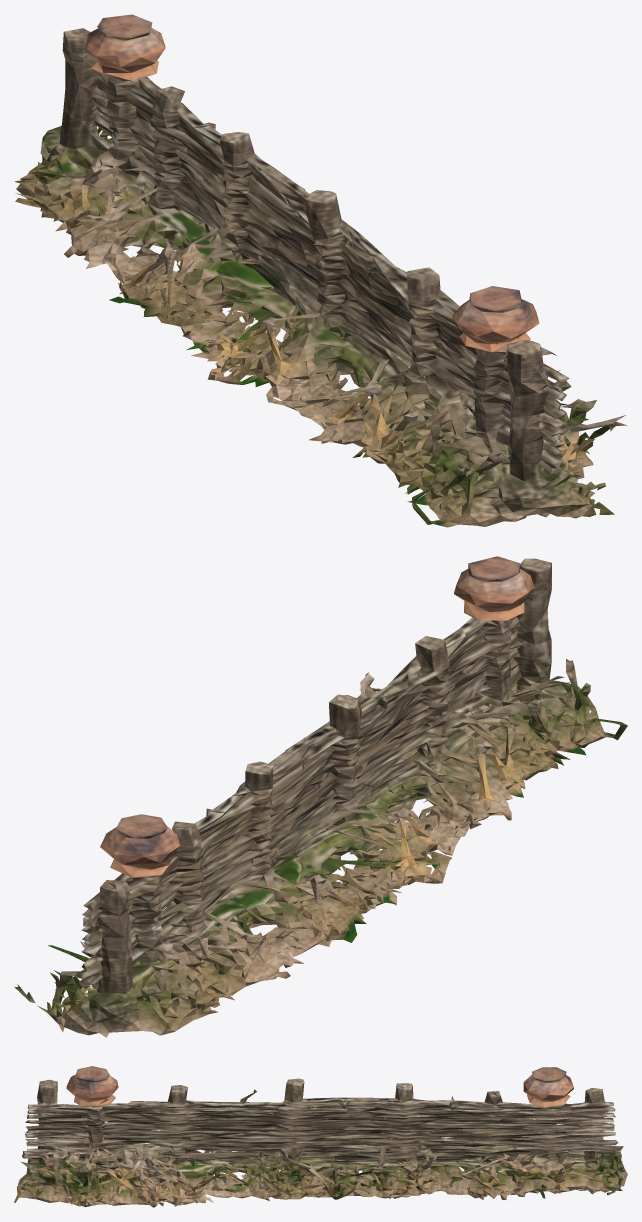
Rendered from k_wattle.obj.
3 renders of one model, top to bottom at view 1: azimuth 30°, elevation 25°; view 2: azimuth 150°, elevation 25°; view 3: azimuth 270°, elevation 25°, orthographic. The views are drawn at different scales.
Parts seen in each view (by area): view 1: k_wattle; view 2: k_wattle; view 3: k_wattle.
Part boxes in pixels (x1=…): k_wattle: x1=15, y1=14, x2=627, y2=527; k_wattle: x1=14, y1=556, x2=627, y2=1037; k_wattle: x1=14, y1=1066, x2=627, y2=1207.
Bounding box in the file's own units: 1.56 × 1.25 × 6.
Materials: 1 (1 with a texture image).
